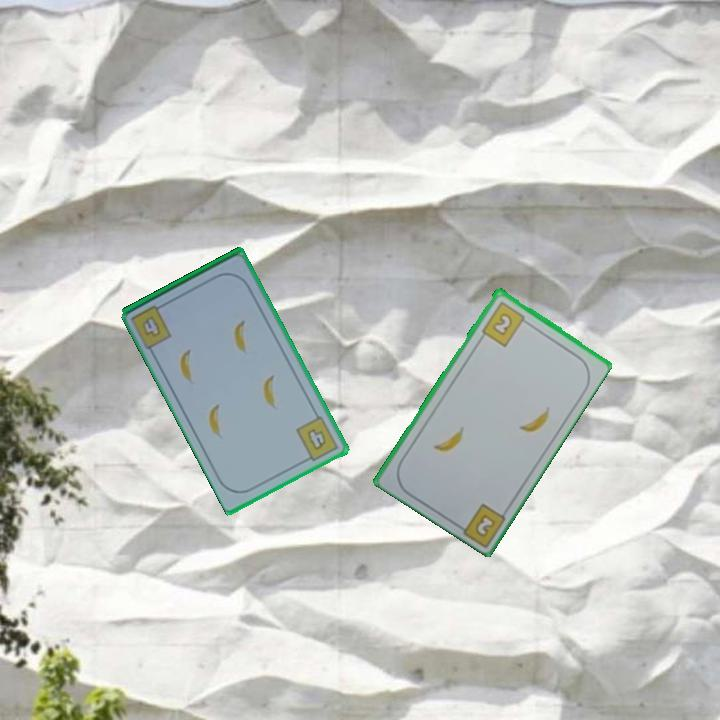2b: (478, 297, 532, 349), (471, 510, 498, 539)
4b: (293, 412, 341, 465), (141, 315, 162, 338)
